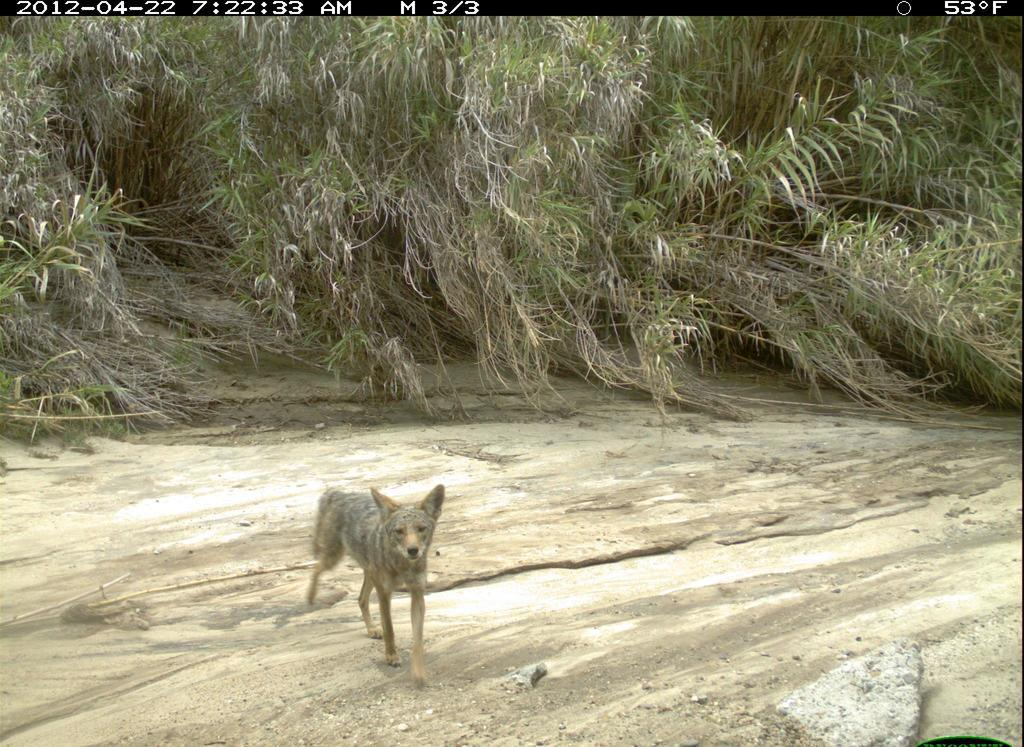coyote: (303, 470, 469, 690)
